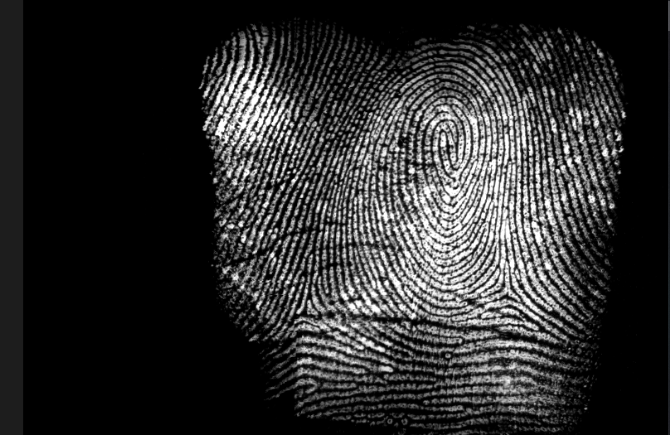deltas: (276, 276, 344, 336), (482, 258, 531, 316)
nucleo: (419, 103, 479, 176)
